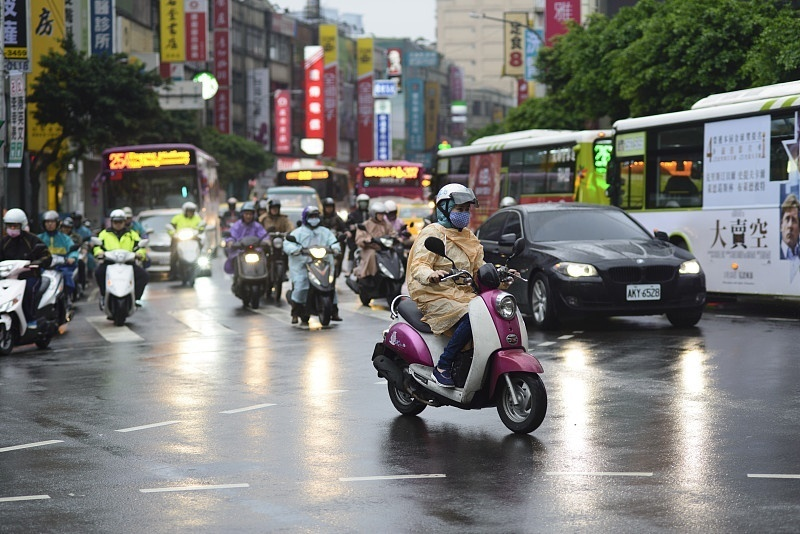non-vehicle: (369, 263, 552, 428), (1, 244, 67, 353), (280, 221, 344, 321), (92, 242, 147, 324), (223, 230, 275, 306)
